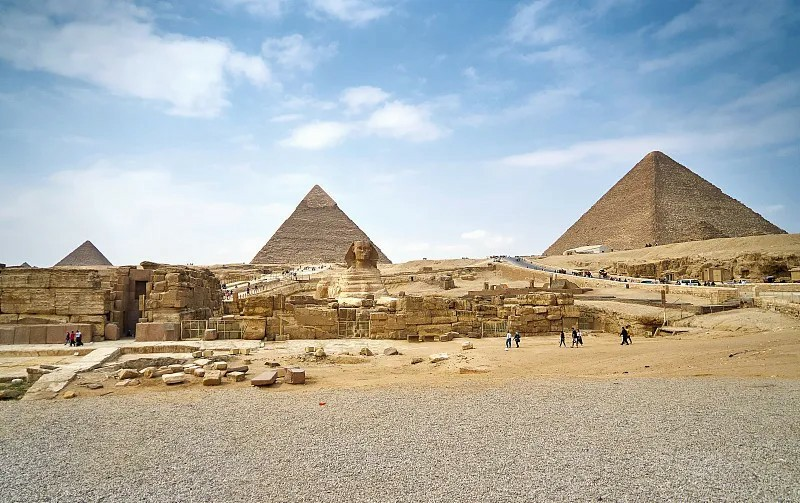Pyramid: (540, 152, 788, 259), (251, 184, 391, 264), (53, 241, 112, 267)
